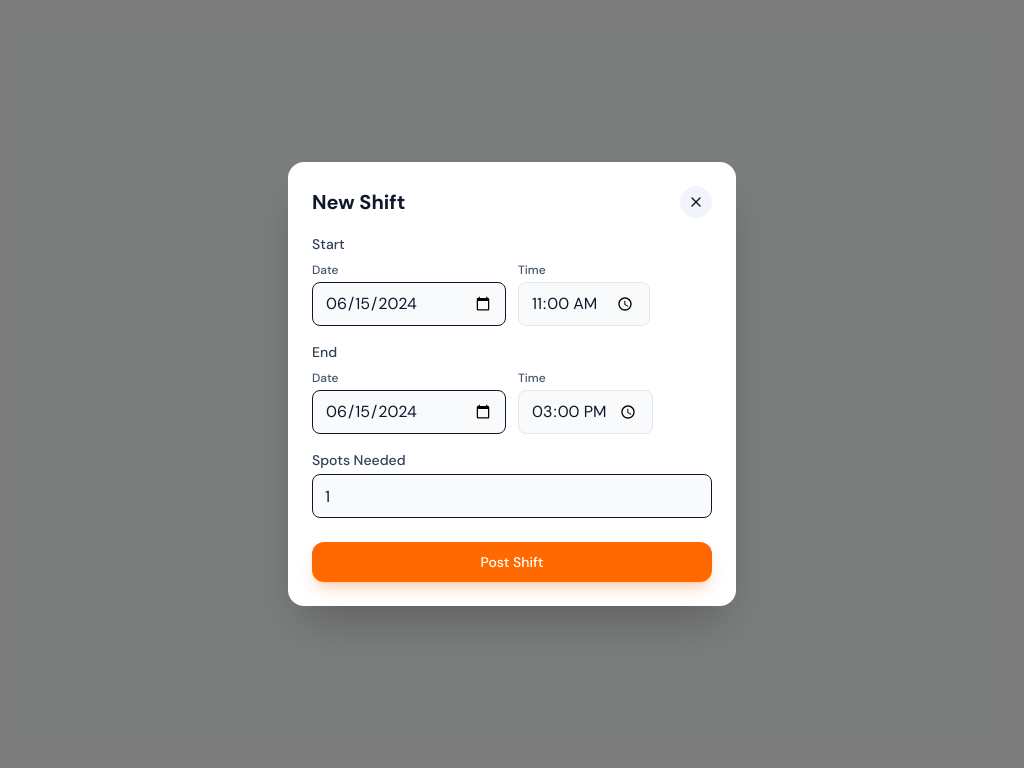
Test: CreateShiftModal › validation › shows error when start date is empty
Note: Clear the start date
Clear the date field with id "start-date" at (409, 304), box top-left (325, 283), bottom-right (493, 325)
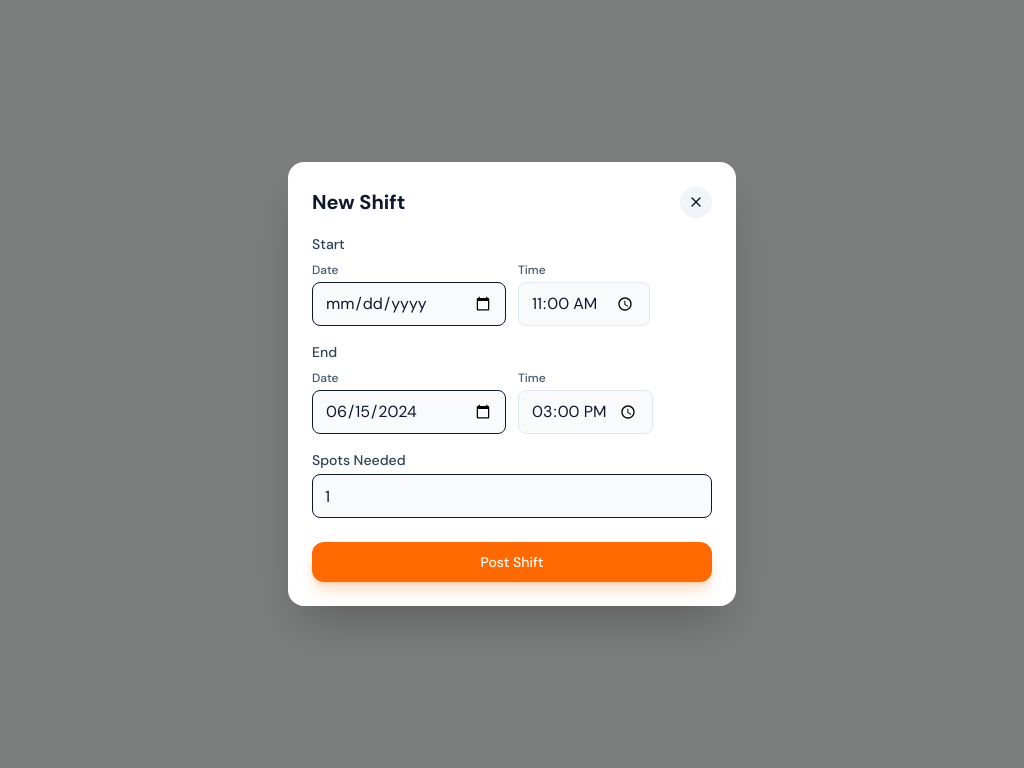
Click the button "Post Shift".
click(512, 562)  # box top-left (312, 542), bottom-right (712, 582)
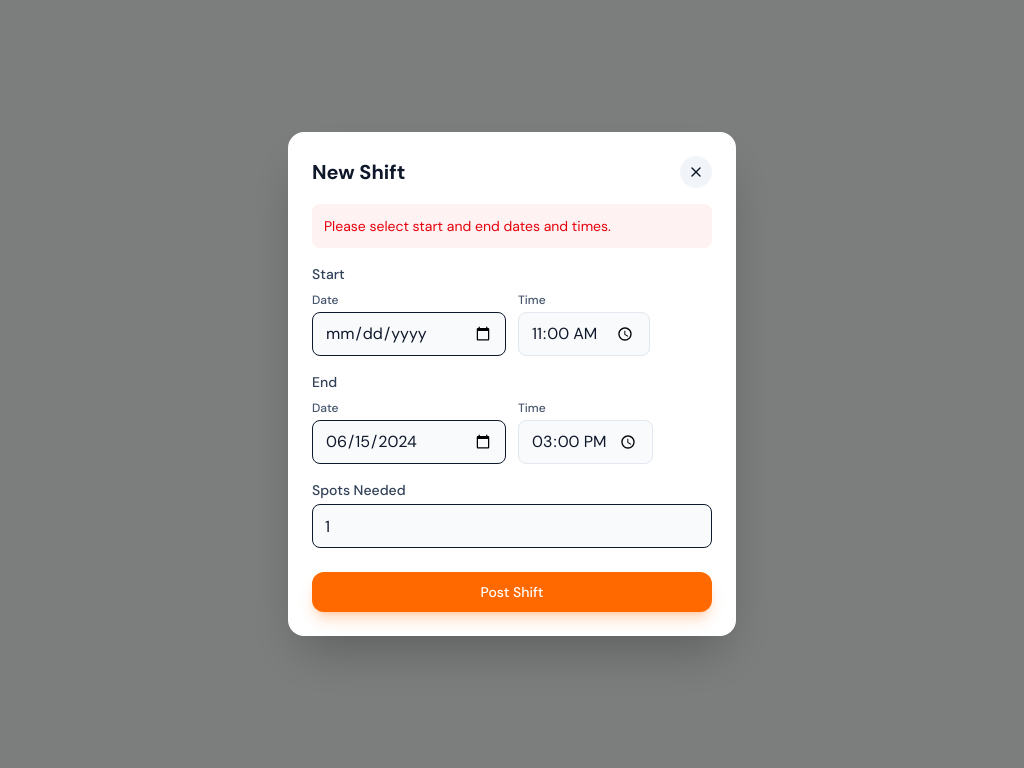
expect the text "Please select start and end dates and times." is shown: met, box top-left (312, 204), bottom-right (712, 248)
